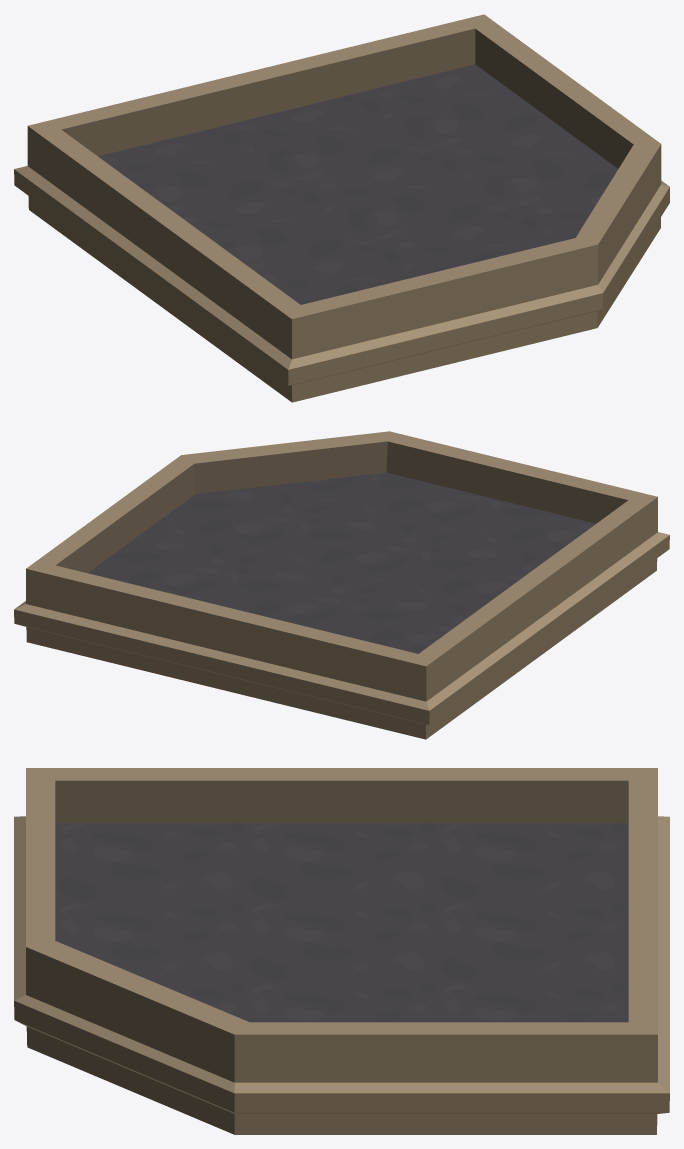
File: RoofTop_B05.fbx
3 renders of one model, top to bottom at view 1: azimuth 30°, elevation 25°; view 2: azimuth 150°, elevation 25°; view 3: azimuth 270°, elevation 25°, orthographic. The views are drawn at different scales.
Visible parts, largest first — view 1: RoofTop_B05; view 2: RoofTop_B05; view 3: RoofTop_B05.
Part boxes in pixels (x1,y1,x2,y2): RoofTop_B05: [14, 14, 669, 402]; RoofTop_B05: [14, 431, 669, 739]; RoofTop_B05: [14, 768, 669, 1134].
Size of the model in its own units: 638 by 108 by 639.
